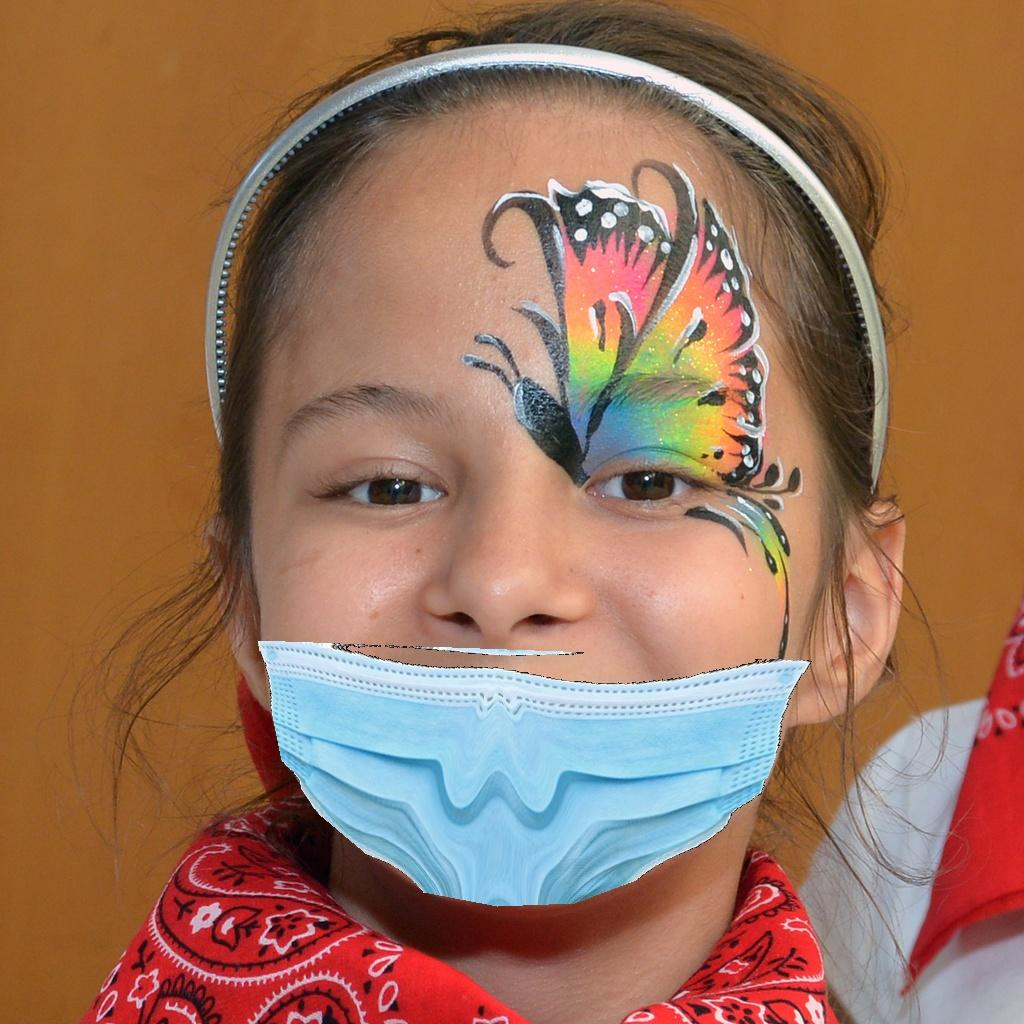Máscara Incorreta: (238, 243, 822, 888)
